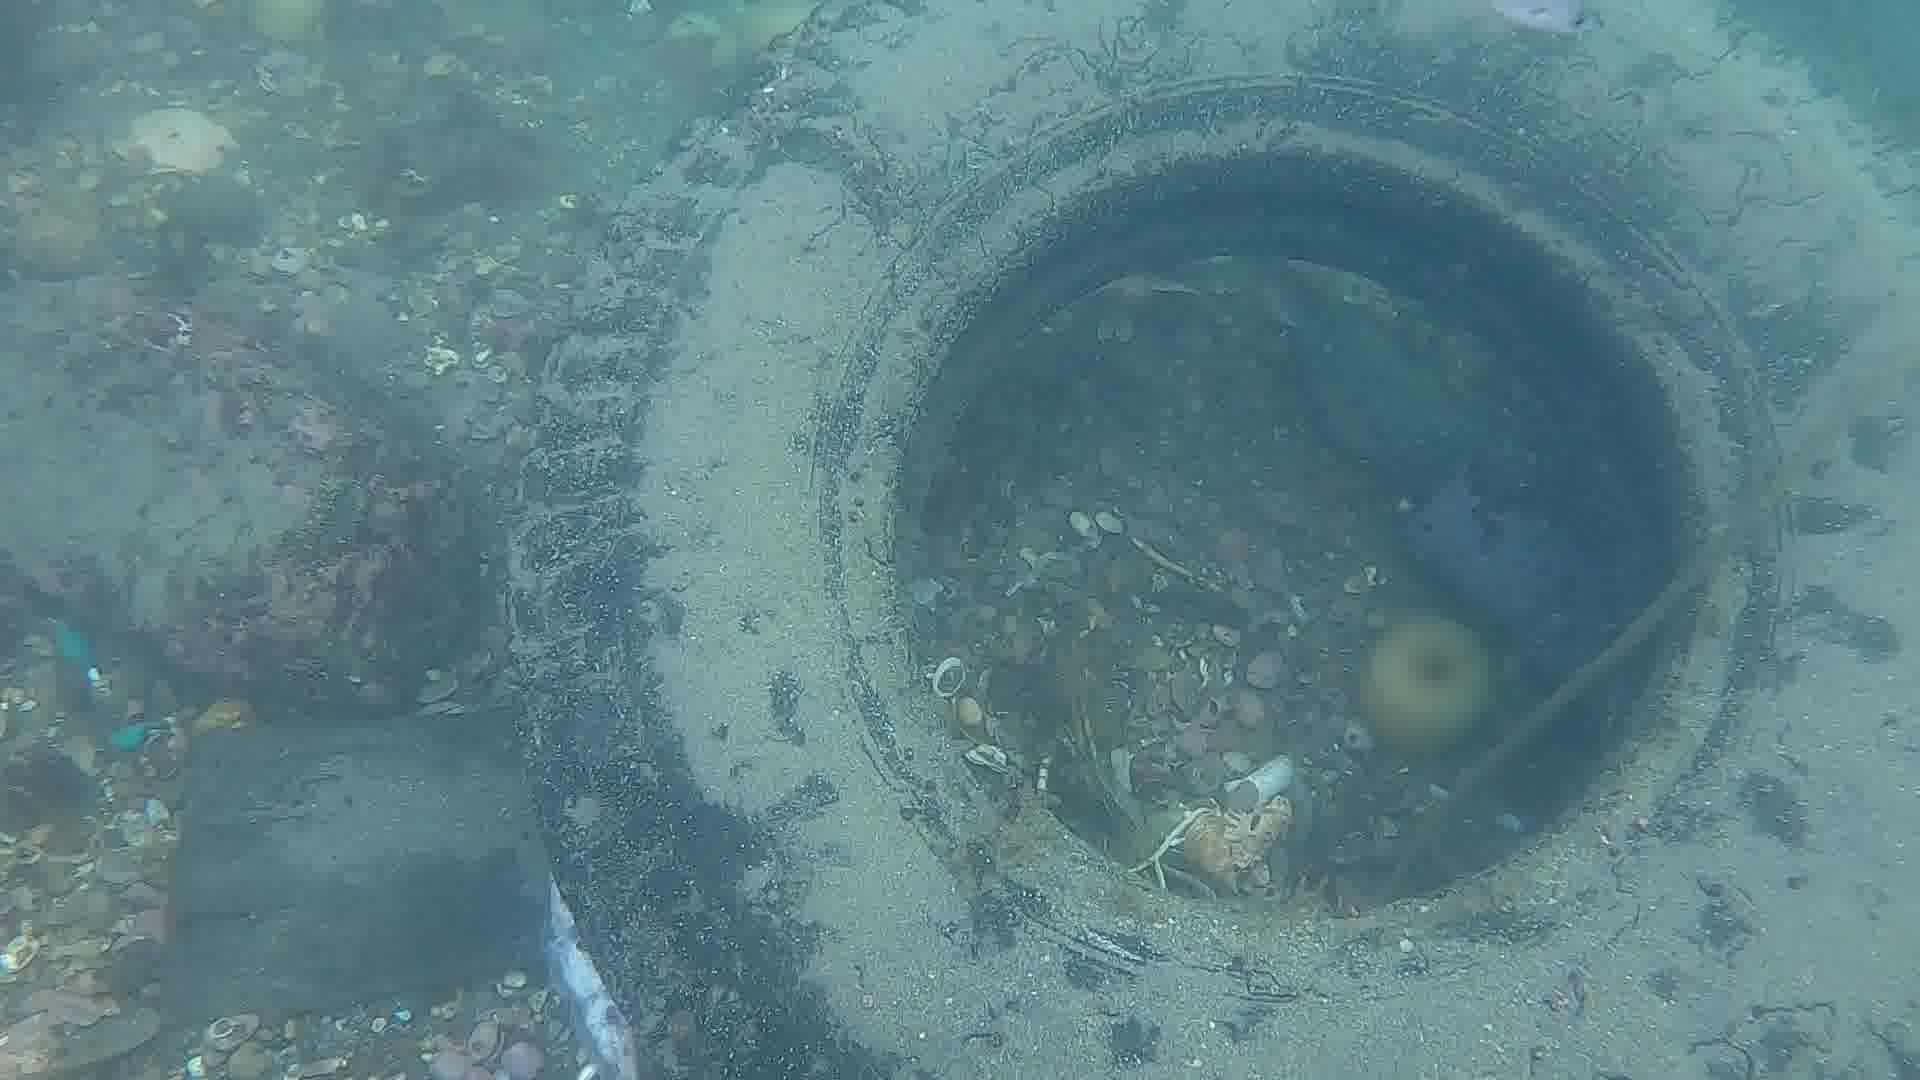tire: (501, 0, 1920, 1080)
